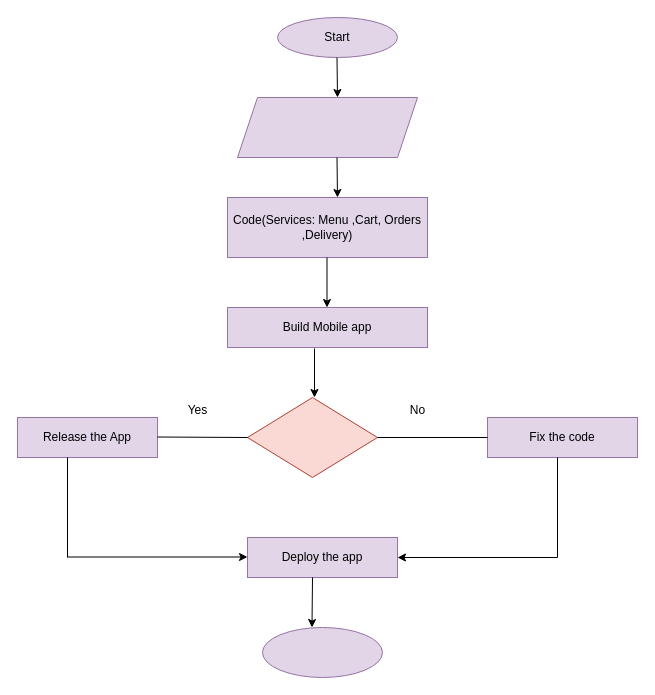
Image size: 655x695. Some labels were removed from this diagram. Here are the shapes that lost their labels. From the top down, the centre of each, then its label:
the point at 327,127: plan Features (Search,Orders,Delivery)
the point at 312,437: Test Passed
the point at 322,652: End
